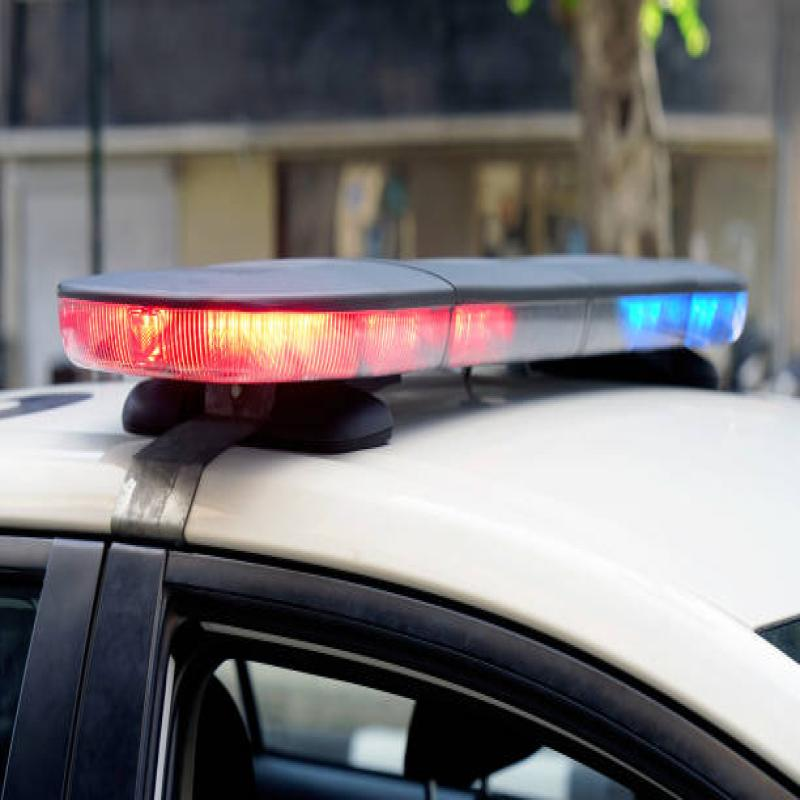AmbulanceSiren: (37, 191, 770, 390)
